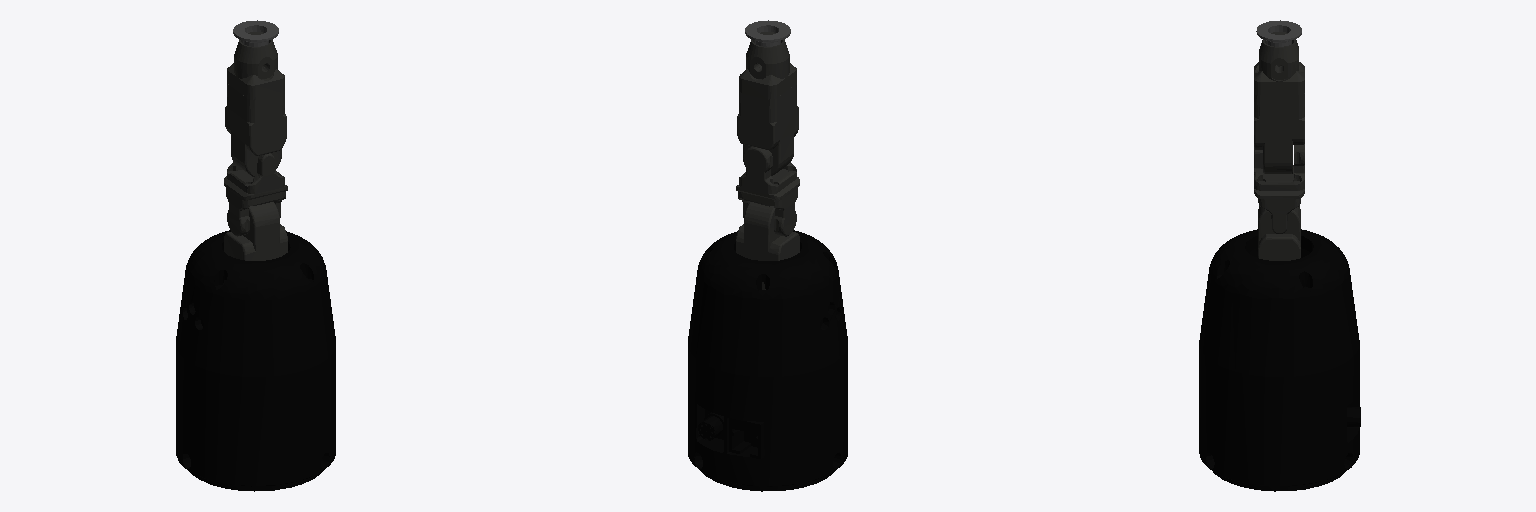
The robot description file, URDF, robot "dg1f":
<?xml version="1.0" ?>

<robot name="dg1f">
  <!--links and joints-->
  <!--base-->
  <link name="l_base">
    <visual>
      <origin xyz="0 0 0" rpy="0 0 0" />
      <geometry>
        <mesh filename="package://dg1f_description/meshes/dg1f/visual/l_base.dae" />
      </geometry>
    </visual>
    <collision>
      <origin xyz="0 0 0" rpy="0 0 0" />
      <geometry>
        <mesh filename="package://dg1f_description/meshes/dg1f/collision/l_base.stl" />
      </geometry>
    </collision>
  </link>

  <!-- +++++++++++++++++++++++++++finger-1-->
  <link name="l_1_1">
    <visual>
      <origin xyz="0 0 0" rpy="0 0 0" />
      <geometry>
        <mesh filename="package://dg1f_description/meshes/dg1f/visual/l_1.dae" />
      </geometry>
    </visual>
    <collision>
      <origin xyz="0 0 0" rpy="0 0 0" />
      <geometry>
        <mesh filename="package://dg1f_description/meshes/dg1f/collision/l_1.stl" />
      </geometry>
    </collision>
  </link>
  <!--joint outer-->
  <joint name="j_1_1" type="revolute">
    <origin xyz="0 0 0" rpy="0.0 0.0 0.0" />
    <parent link="l_base" />
    <child link="l_1_1" />
    <axis xyz="0 0 1" />
    <limit lower="-3.141593" upper="3.141593" effort="7.644" velocity="3.141592653589793" />
  </joint>

  <link name="l_1_2">
    <visual>
      <origin xyz="0 0 0" rpy="0 0 0" />
      <geometry>
        <mesh filename="package://dg1f_description/meshes/dg1f/visual/l_2.dae" />
      </geometry>
    </visual>
    <collision>
      <origin xyz="0 0 0" rpy="0 0 0" />
      <geometry>
        <mesh filename="package://dg1f_description/meshes/dg1f/collision/l_2.stl" />
      </geometry>
    </collision>
  </link>
  <!--joint inner-->
  <joint name="j_1_2" type="revolute">
    <origin xyz="0 0 0.030317" rpy="0.0 0.0 0.0" />
    <parent link="l_1_1" />
    <child link="l_1_2" />
    <axis xyz="1 0 0" />
    <limit lower="-1.5708" upper="1.5708" effort="7.644" velocity="3.141592653589793" />
  </joint>

  <link name="l_1_3">
    <visual>
      <origin xyz="0 0 0" rpy="0 0 0" />
      <geometry>
        <mesh filename="package://dg1f_description/meshes/dg1f/visual/l_3.dae" />
      </geometry>
    </visual>
    <collision>
      <origin xyz="0 0 0" rpy="0 0 0" />
      <geometry>
        <mesh filename="package://dg1f_description/meshes/dg1f/collision/l_3.stl" />
      </geometry>
    </collision>
  </link>
  <!--joint 1-->
  <joint name="j_1_3" type="revolute">
    <origin xyz="0 0 0.031" rpy="0.0 0.0 0.0" />
    <parent link="l_1_2" />
    <child link="l_1_3" />
    <axis xyz="0 1 0" />
    <limit lower="-1.5708" upper="1.5708" effort="7.644" velocity="3.141592653589793" />
  </joint>


  <link name="l_1_4">
    <visual>
      <origin xyz="0 0 0" rpy="0 0 0" />
      <geometry>
        <mesh filename="package://dg1f_description/meshes/dg1f/visual/l_tip.dae" />
      </geometry>
    </visual>
    <collision>
      <origin xyz="0 0 0" rpy="0 0 0" />
      <geometry>
        <mesh filename="package://dg1f_description/meshes/dg1f/collision/l_tip.stl" />
      </geometry>
    </collision>
  </link>
  <!--joint 2-->
  <joint name="j_1_4" type="fixed">
    <origin xyz="0 0 0.03129" rpy="0.0 0.0 0.0" />
    <parent link="l_1_3" />
    <child link="l_1_4" />
    <axis xyz="0 0 1" />
  </joint>
</robot>

--- Render facts (derived) ---
Views: 3 orthographic renders of the robot side by side, from view 1: azimuth 30°, elevation 25°; view 2: azimuth 150°, elevation 25°; view 3: azimuth 270°, elevation 25°.
Model dg1f with 5 links and 4 joints (3 revolute, 1 fixed), rooted at l_base, posed all joints at 0.
Visible links, largest first — view 1: l_base, l_1_3, l_1_4, l_1_2, l_1_1; view 2: l_base, l_1_3, l_1_4, l_1_2, l_1_1; view 3: l_base, l_1_3, l_1_4, l_1_2, l_1_1.
Boxes of the visible links, left/top/right/bottom form: l_base: left=176, top=230, right=335, bottom=491; l_1_3: left=225, top=84, right=286, bottom=176; l_1_4: left=227, top=20, right=284, bottom=99; l_1_2: left=224, top=153, right=287, bottom=236; l_1_1: left=224, top=202, right=287, bottom=260; l_base: left=688, top=230, right=847, bottom=491; l_1_3: left=737, top=85, right=798, bottom=175; l_1_4: left=739, top=20, right=796, bottom=99; l_1_2: left=736, top=146, right=799, bottom=236; l_1_1: left=736, top=202, right=799, bottom=289; l_base: left=1199, top=229, right=1360, bottom=491; l_1_3: left=1254, top=93, right=1304, bottom=173; l_1_4: left=1254, top=20, right=1304, bottom=96; l_1_2: left=1254, top=144, right=1304, bottom=233; l_1_1: left=1258, top=206, right=1300, bottom=260.
Bounding box of the posed robot: 0.0701 × 0.0706 × 0.2073 m (x, y, z).
5 mesh visuals loaded from 5 distinct referenced files (5 Collada DAE).
